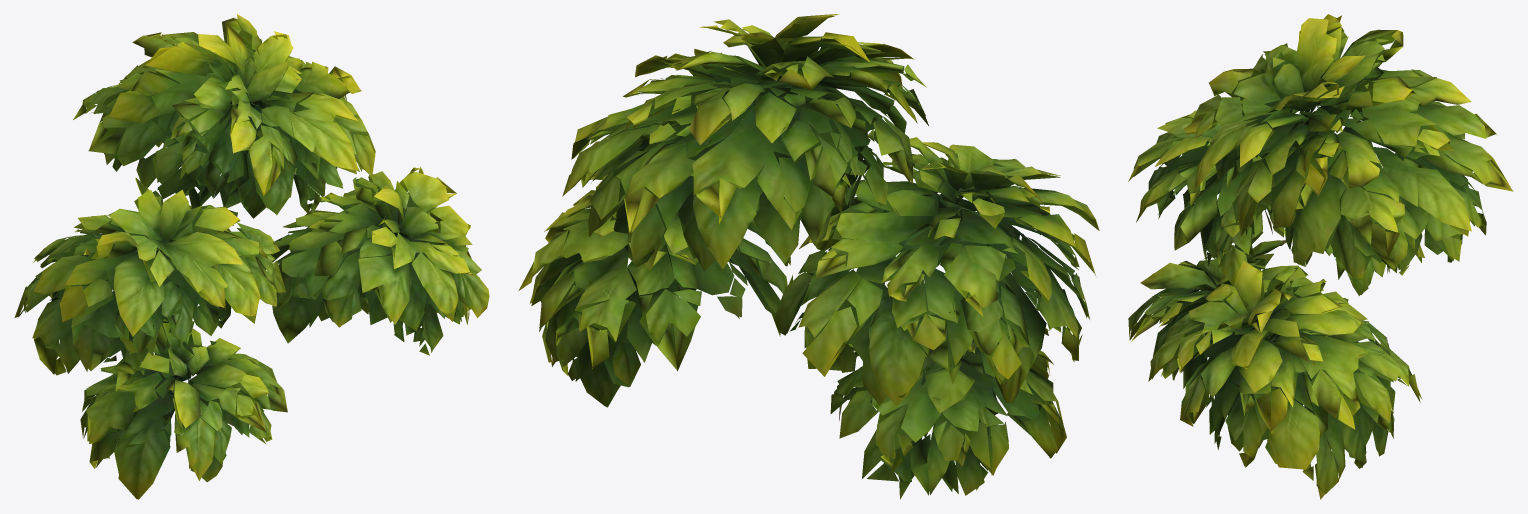
Rendered from canopy.glb.
3 views of the same model, side by side, from view 1: azimuth 30°, elevation 25°; view 2: azimuth 150°, elevation 25°; view 3: azimuth 270°, elevation 25° (orthographic). The views are drawn at different scales.
Visible parts, largest first — view 1: tripo_node_8c45c21c-248f-4020-9f51-129a4f492763; view 2: tripo_node_8c45c21c-248f-4020-9f51-129a4f492763; view 3: tripo_node_8c45c21c-248f-4020-9f51-129a4f492763.
Boxes of the visible parts, x1,y1,x2,y2 form: tripo_node_8c45c21c-248f-4020-9f51-129a4f492763: (14,14,489,499); tripo_node_8c45c21c-248f-4020-9f51-129a4f492763: (518,14,1099,499); tripo_node_8c45c21c-248f-4020-9f51-129a4f492763: (1128,14,1513,499).
Size of the model in its own units: 8.41 by 7.07 by 6.09.
1 material, 1 textured.
